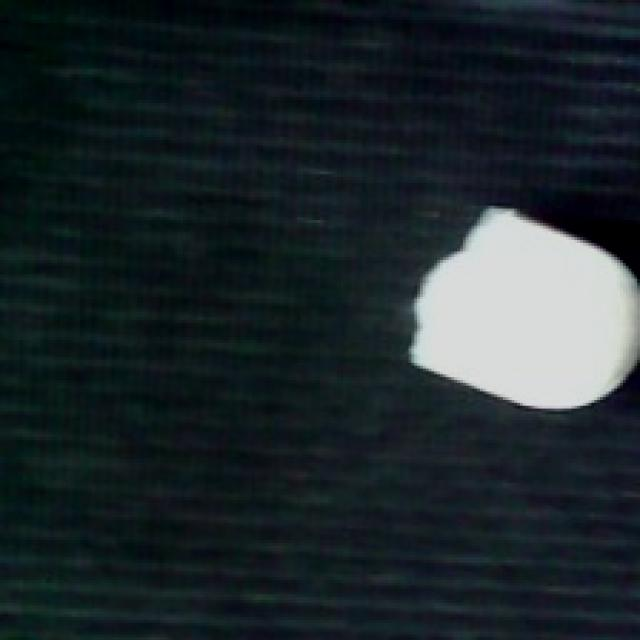defected: (400, 203, 637, 423)
